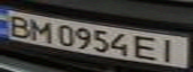0: (51, 21, 78, 47)
4: (109, 30, 130, 57)
5: (90, 28, 112, 54)
9: (72, 25, 93, 51)
B: (3, 11, 33, 38)
E: (133, 34, 163, 61)
I: (154, 37, 187, 63)
M: (27, 17, 57, 43)
